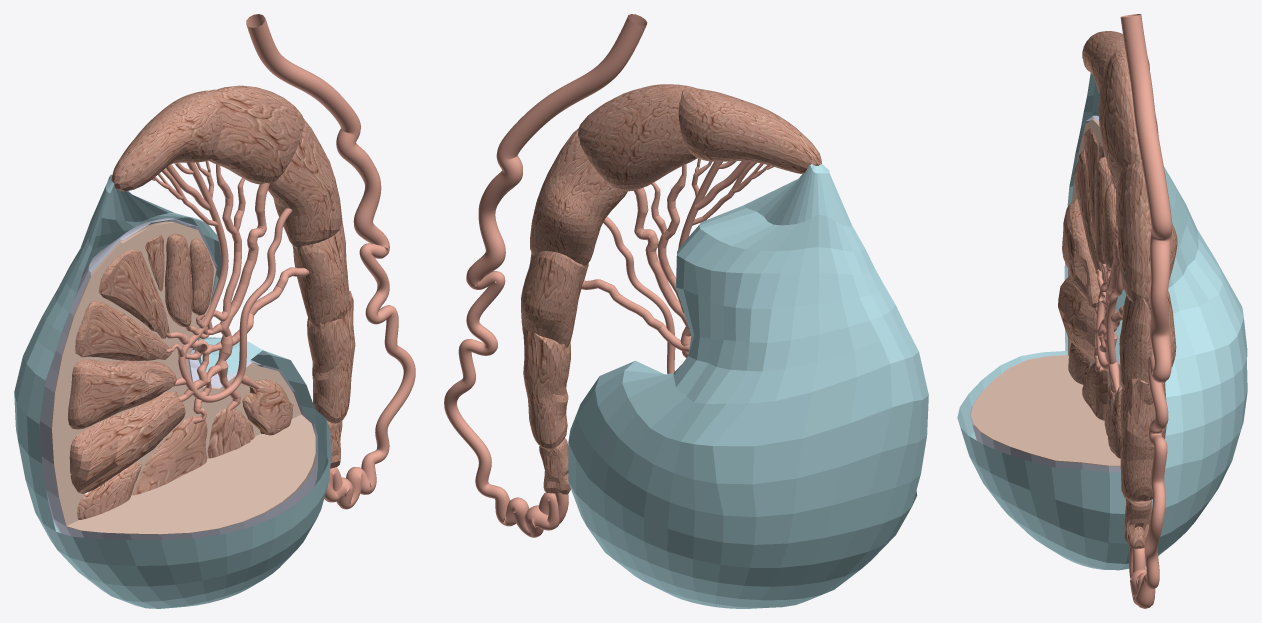
The picture shows the model from 3 angles, left to right: view 1: azimuth 30°, elevation 25°; view 2: azimuth 150°, elevation 25°; view 3: azimuth 270°, elevation 25°; orthographic projection. The views are drawn at different scales.
Parts seen in each view (by area): view 1: Sphere.013, Sphere.010, NurbsPath, Sphere.015, Sphere.014, Sphere, Sphere.020, Sphere.016, Sphere.021, Sphere.018, Sphere.017, Sphere.003 (+12 smaller); view 2: Sphere.013, NurbsPath, Sphere.015, Sphere, Sphere.016, Sphere.017, Sphere.018, NurbsPath.001, NurbsPath.003, Sphere.019, NurbsPath.005, NurbsPath.009; view 3: Sphere.013, NurbsPath, Sphere.010, Sphere.016, Sphere.015, Sphere.018, Sphere.017, Sphere.021, Sphere.020, Sphere.014, Sphere, NurbsPath.001 (+9 smaller).
Boxes of the visible parts, <box> form: Sphere.013: <box>14,174,330,608</box>; Sphere.010: <box>51,221,315,534</box>; NurbsPath: <box>246,14,415,509</box>; Sphere.015: <box>208,85,304,184</box>; Sphere.014: <box>39,218,318,540</box>; Sphere: <box>111,89,222,191</box>; Sphere.020: <box>69,391,185,493</box>; Sphere.016: <box>268,118,342,248</box>; Sphere.021: <box>68,359,176,429</box>; Sphere.018: <box>307,291,355,423</box>; Sphere.017: <box>292,219,349,326</box>; Sphere.003: <box>75,301,171,360</box>; Sphere.013: <box>568,164,928,608</box>; NurbsPath: <box>444,14,647,537</box>; Sphere.015: <box>578,84,697,191</box>; Sphere: <box>678,87,821,174</box>; Sphere.016: <box>530,128,627,265</box>; Sphere.017: <box>521,250,588,347</box>; Sphere.018: <box>523,325,570,449</box>; NurbsPath.001: <box>603,161,722,373</box>; NurbsPath.003: <box>634,187,691,358</box>; Sphere.019: <box>539,438,570,494</box>; NurbsPath.005: <box>581,279,689,351</box>; NurbsPath.009: <box>657,164,686,313</box>; Sphere.013: <box>957,73,1247,570</box>; NurbsPath: <box>1120,14,1172,608</box>; Sphere.010: <box>971,118,1122,466</box>; Sphere.016: <box>1117,159,1177,309</box>; Sphere.015: <box>1098,50,1158,187</box>; Sphere.018: <box>1120,378,1166,501</box>; Sphere.017: <box>1119,291,1176,404</box>; Sphere.021: <box>1062,199,1099,308</box>; Sphere.020: <box>1058,275,1096,359</box>; Sphere.014: <box>969,115,1120,472</box>; Sphere: <box>1082,31,1149,93</box>; NurbsPath.001: <box>1096,185,1123,371</box>.
Bounding box in the file's own units: 3.9 × 4.83 × 2.21.
40 materials, 17 textured.
